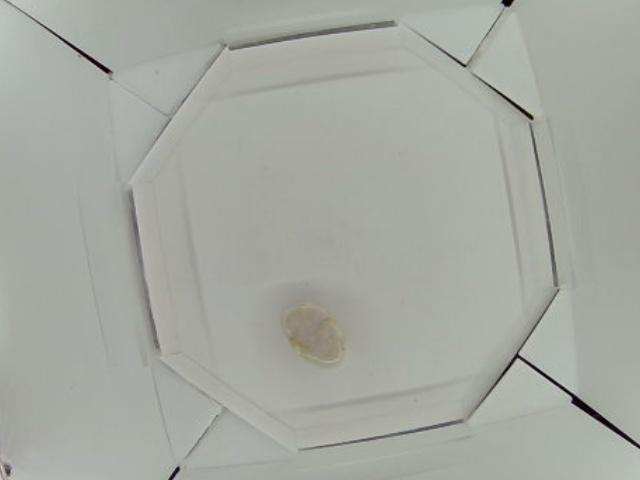Pebble: (282, 303, 345, 369)
